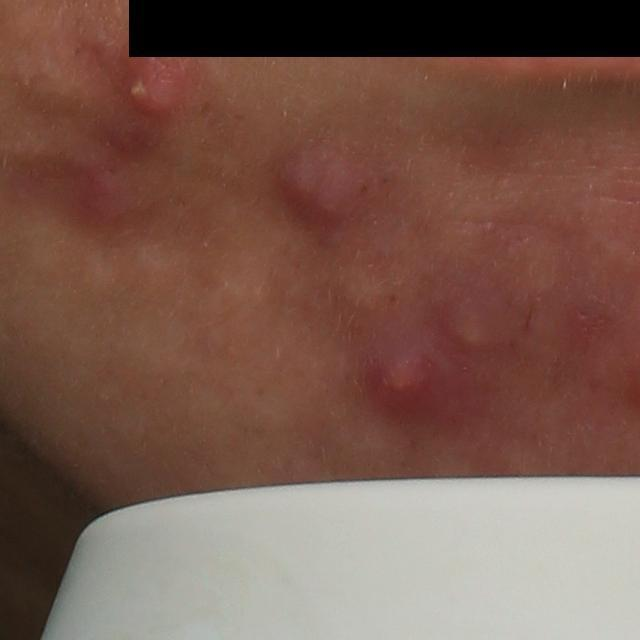papule: (274, 137, 368, 235), (497, 222, 561, 307), (369, 347, 440, 411), (71, 163, 143, 226), (437, 294, 495, 352)
pustule: (114, 55, 188, 124)
